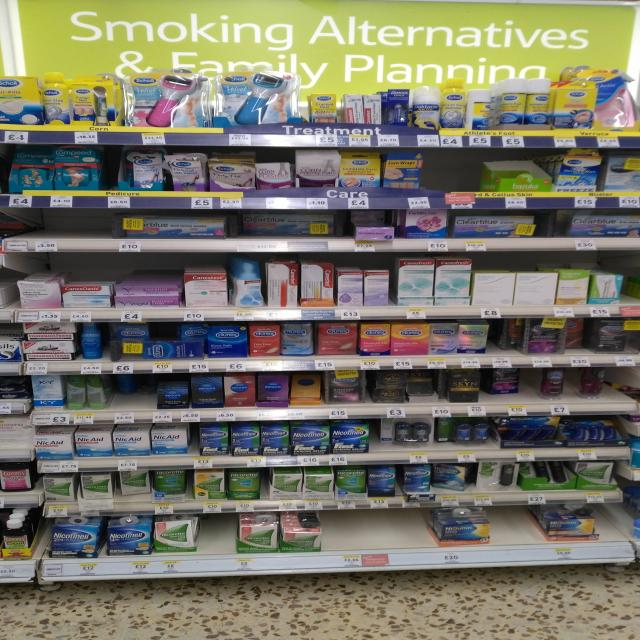void: (327, 510, 384, 566), (383, 509, 432, 567), (434, 148, 478, 208), (58, 206, 113, 251), (0, 208, 56, 250), (497, 506, 535, 562), (208, 515, 238, 572)
